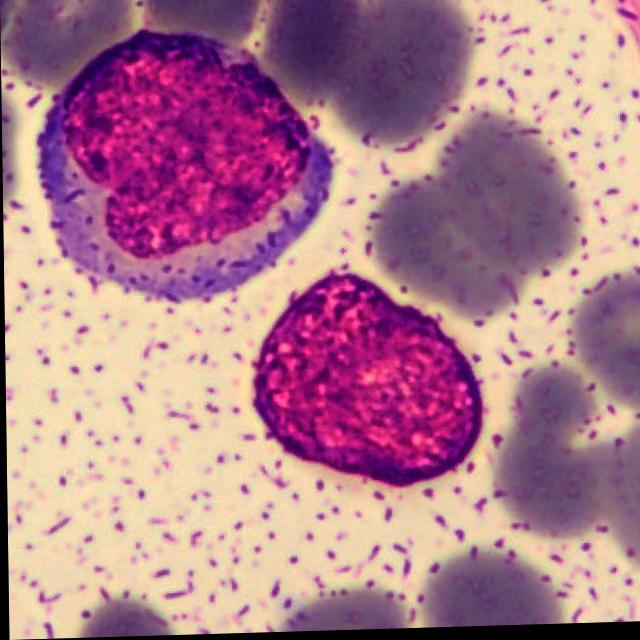Mieloblasto: (38, 28, 333, 303), (251, 268, 482, 489)
